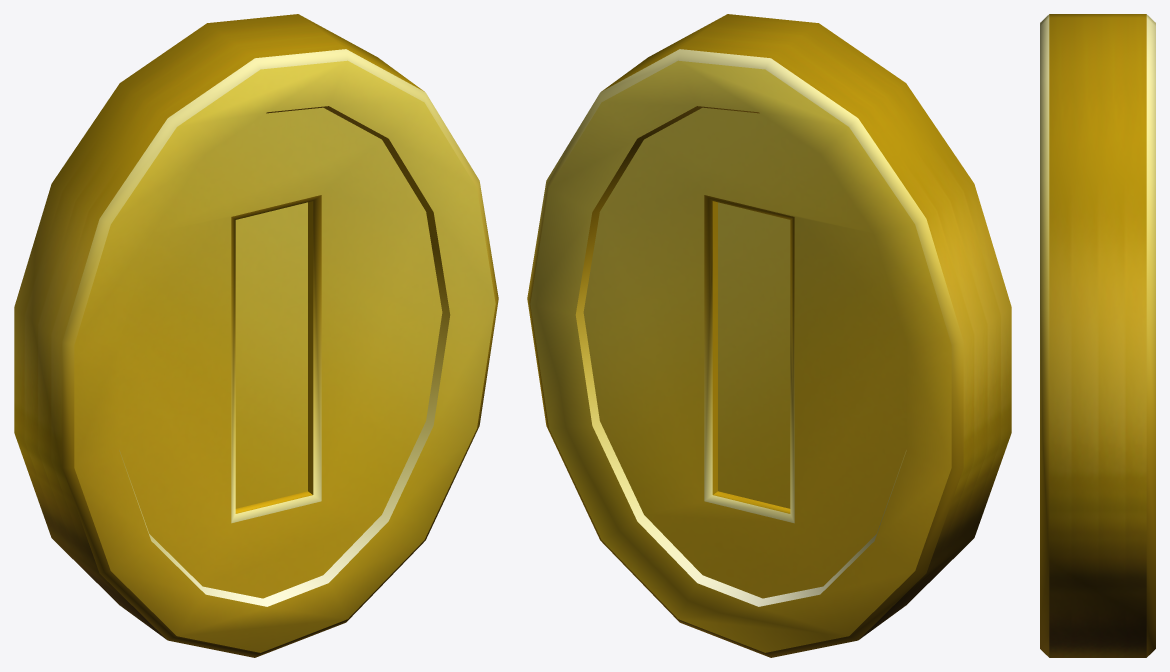
File: coin.FBX
The picture shows the model from 3 angles, left to right: view 1: azimuth 30°, elevation 25°; view 2: azimuth 150°, elevation 25°; view 3: azimuth 270°, elevation 25°; orthographic projection.
Parts seen in each view (by area): view 1: Component#2_001; view 2: Component#2_001; view 3: Component#2_001.
Part boxes in pixels (left/top/right/bottom): Component#2_001: left=14, top=14, right=498, bottom=657; Component#2_001: left=527, top=14, right=1011, bottom=657; Component#2_001: left=1040, top=14, right=1155, bottom=657.
Size of the model in its own units: 1.74 by 2.28 by 0.3937.
4 materials, 4 textured.
